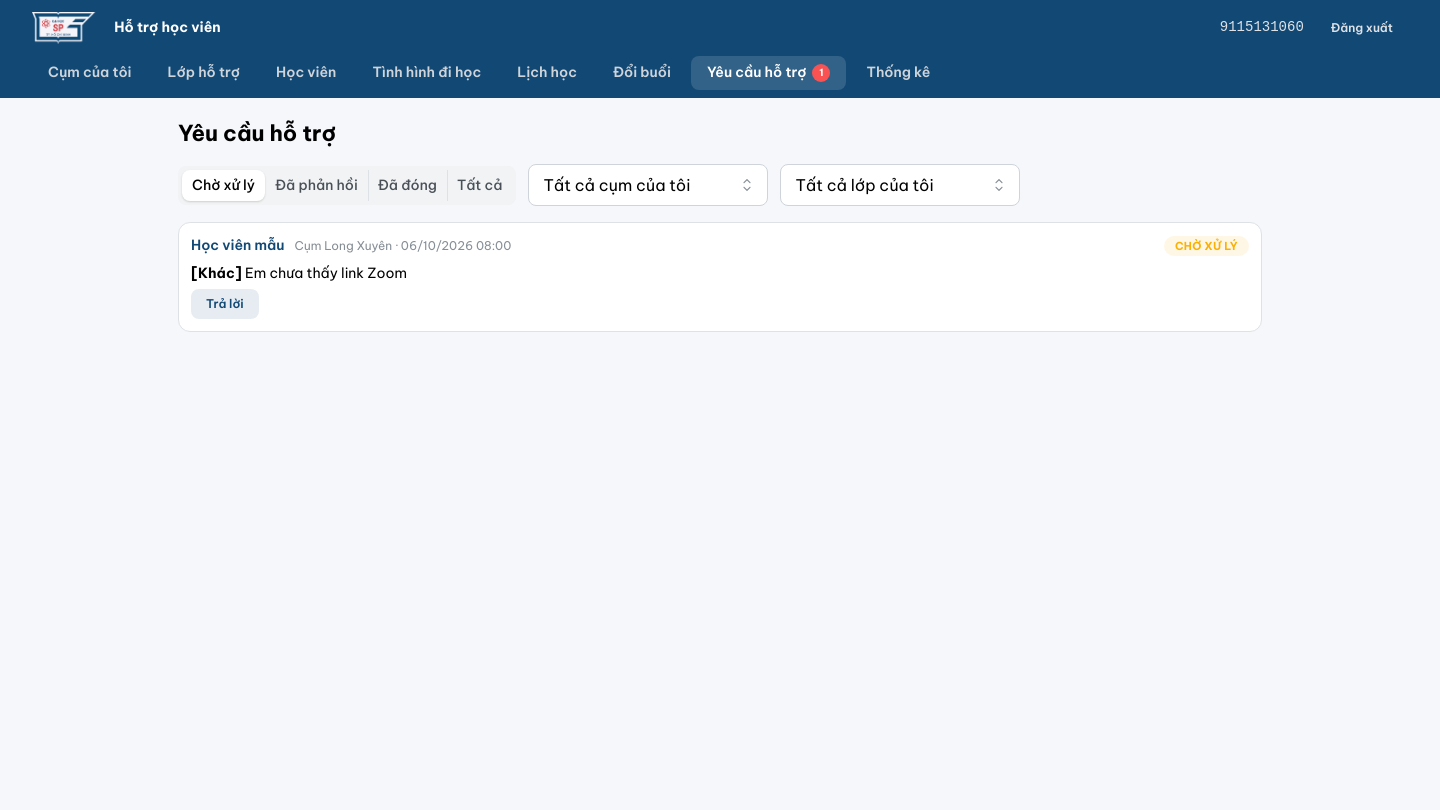
Người hỗ trợ — Yêu cầu hỗ trợ của cụm › T12 (giao diện): người khác đã trả lời -> 409 giữ nguyên nội dung đang soạn + hiện câu trả lời đã có
This screenshot has width=1440, height=810.
Click the button "Trả lời".
click(225, 304)  # box [191,290,259,320]
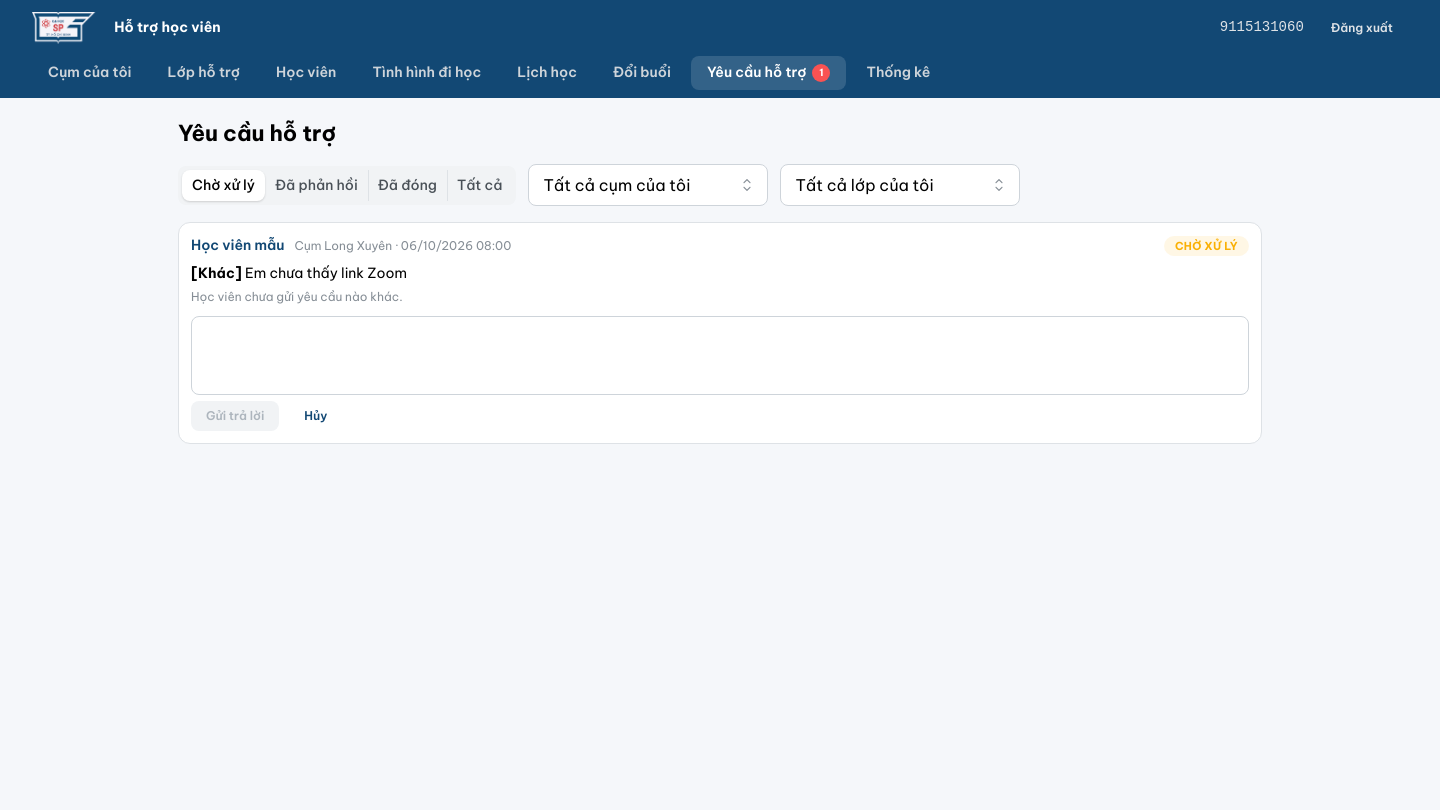
Type "Bản nháp của tôi" into the text box named "Nội dung trả lời".
click(720, 356); type("Bản nháp của tôi")  # box [191,316,1249,395]
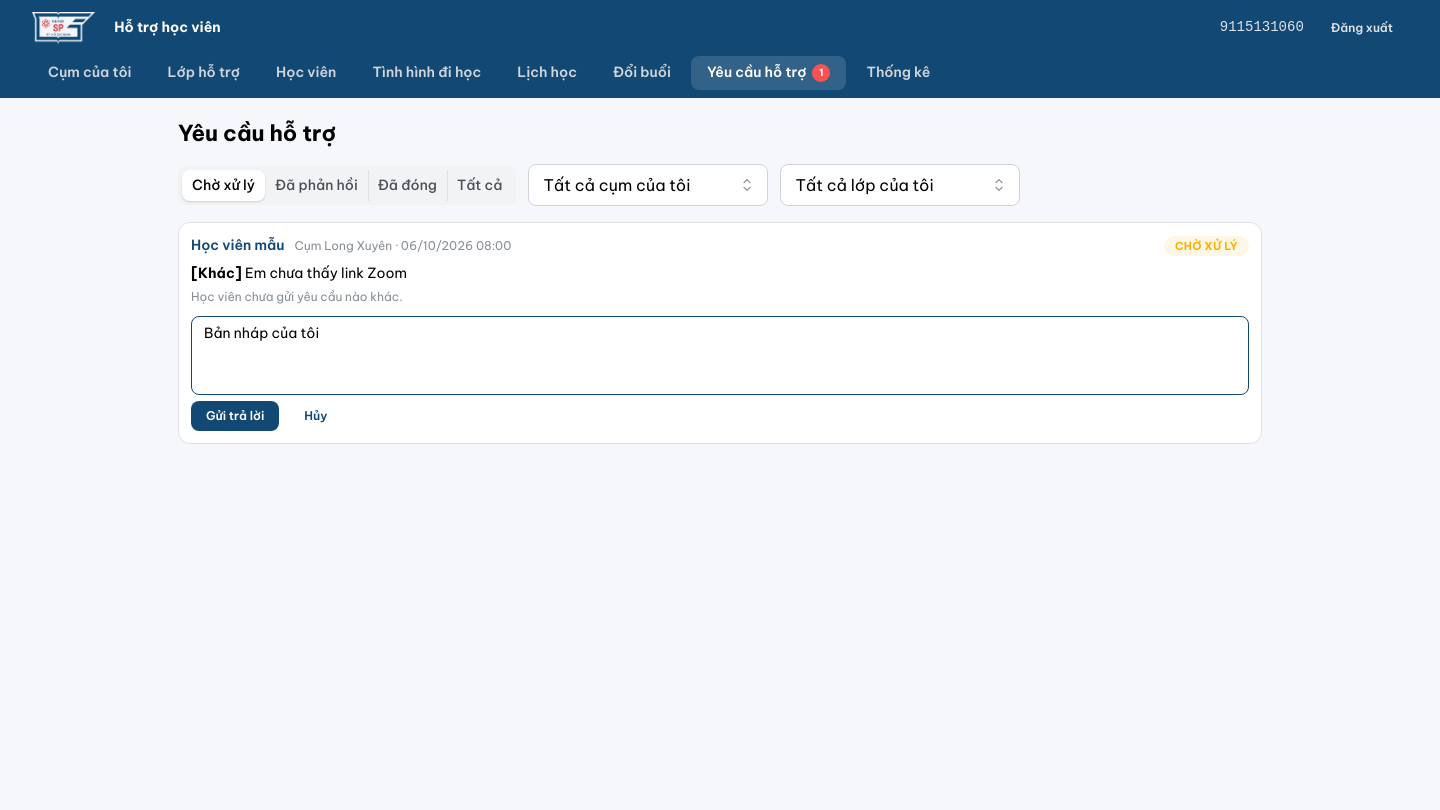
Click the button "Gửi trả lời".
click(235, 416)  # box [191,401,279,431]
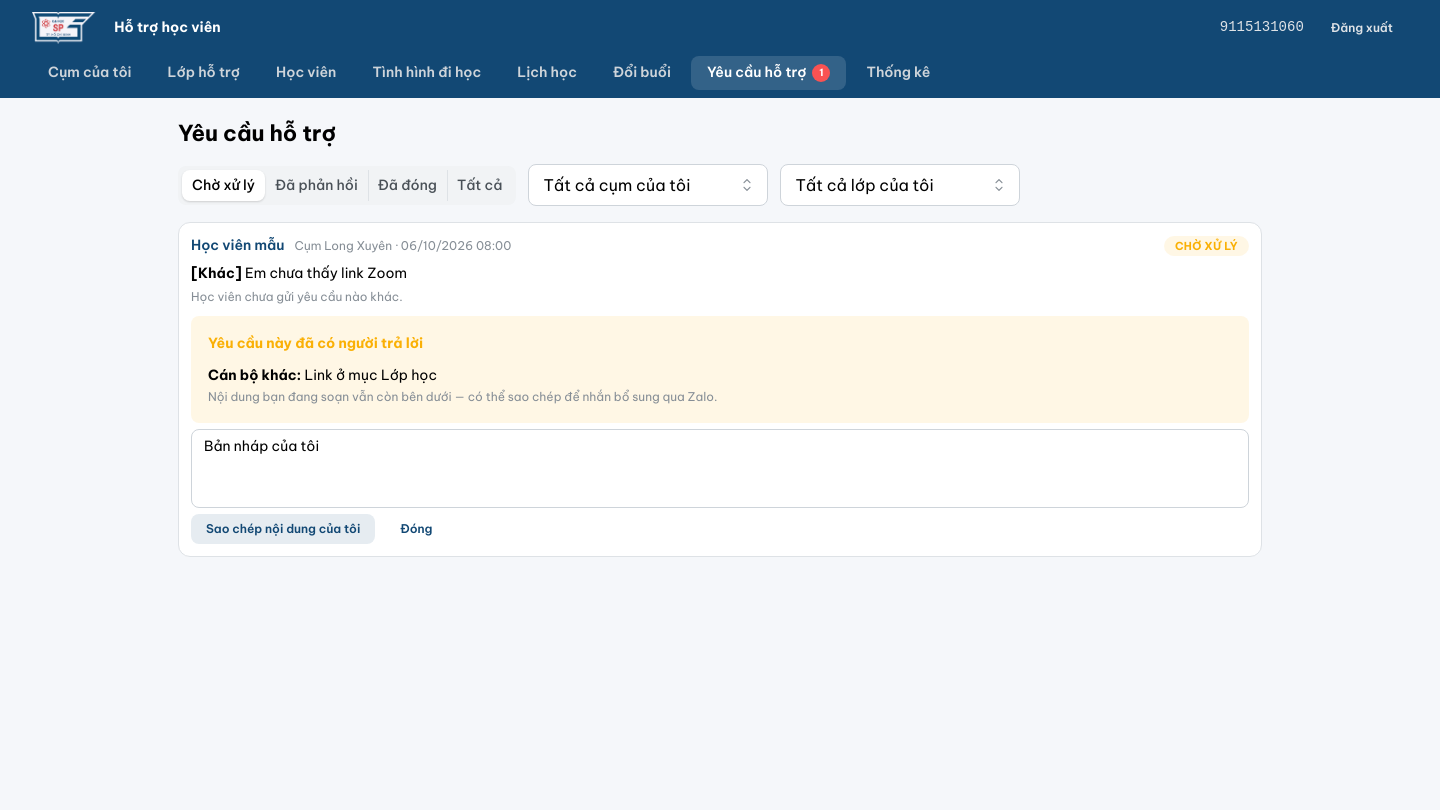
Check: the button "Sao chép nội dung của tôi" is enabled, box [191,514,375,544]
Check: the text "Yêu cầu này đã có người trả lời" is shown, box [208,333,423,355]
Check: the text "Link ở mục Lớp học" is shown, box [304,366,437,384]
